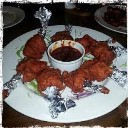chicken_lollipop: (3, 58, 44, 97), (79, 30, 128, 62), (24, 4, 51, 59), (87, 55, 128, 88), (62, 69, 111, 96), (40, 71, 67, 118)
